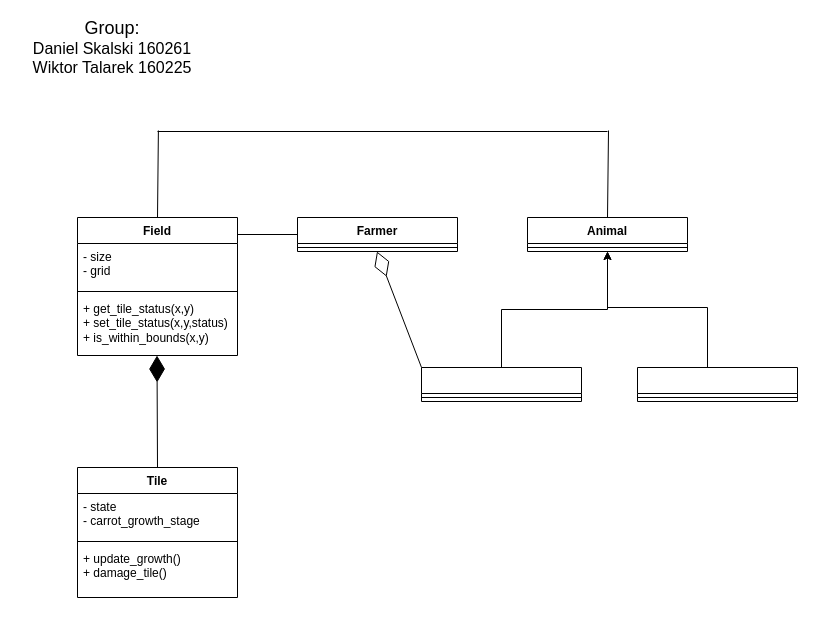
This 815x617 diagram has some shape labels left out. Each missing label, with the centre of its shape:
Dog: point 501,384
Rabbit: point 717,384
